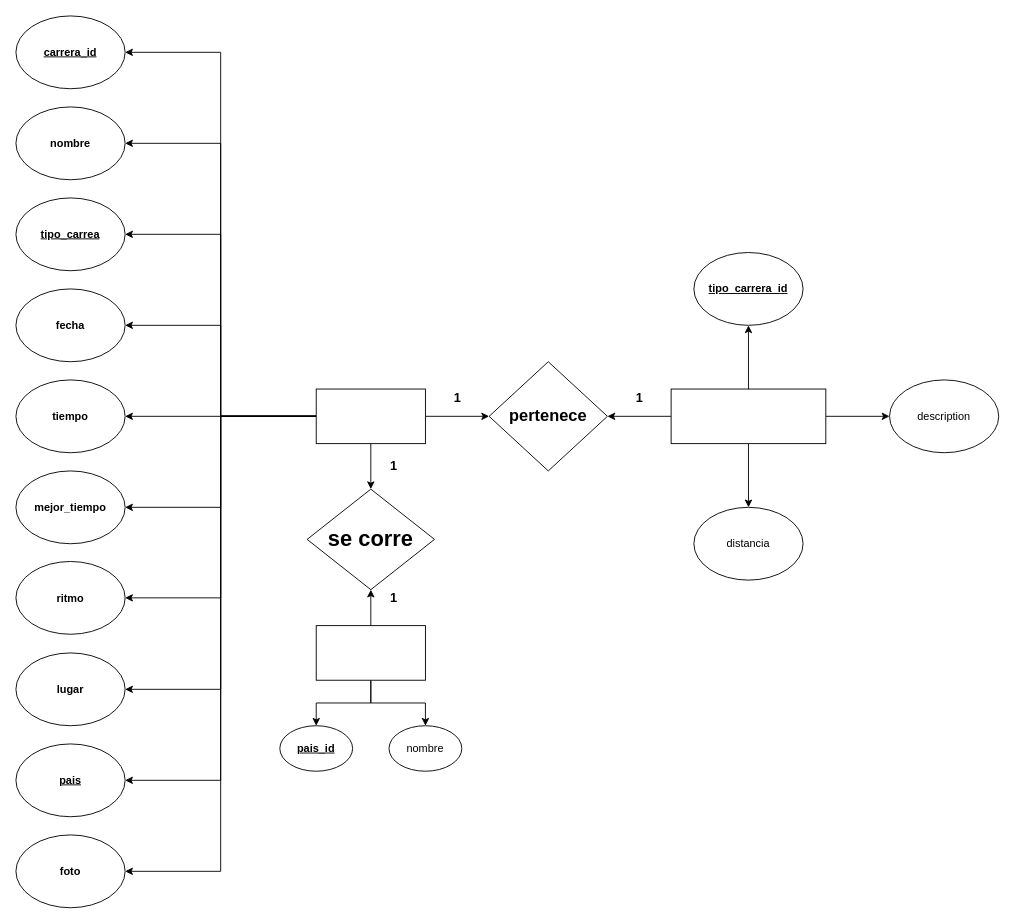
Some shapes in this 1015 by 924 pixel diagram are drawn without their labels. The centre of each missing label's shape, as x and y in pixels:
"carreras" goes at pixel 370 416.
"paises" goes at pixel 370 652.
"tipos_carreras" goes at pixel 748 416.
